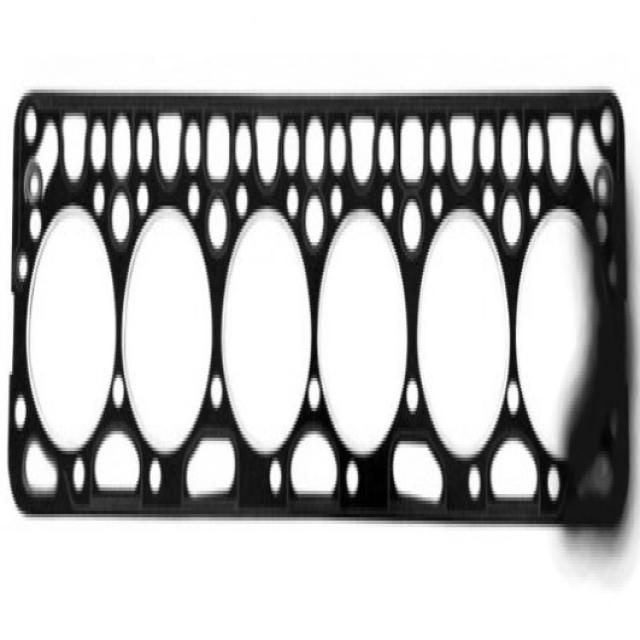burnt: (540, 157, 640, 572)
